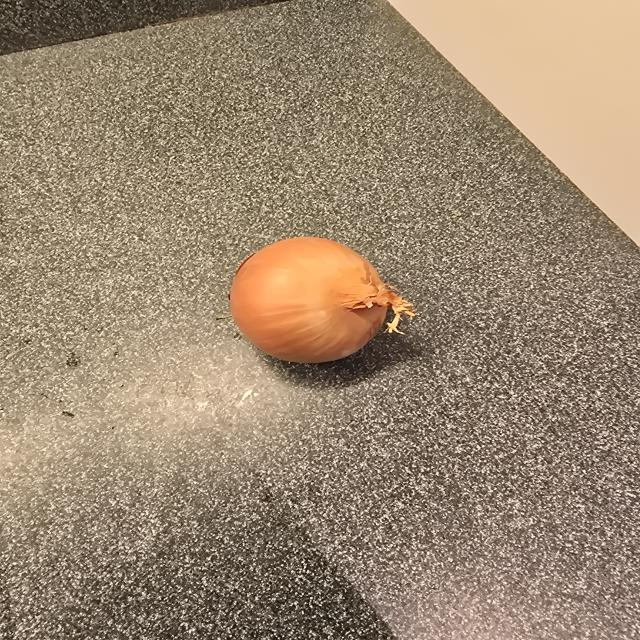Onion: (229, 237, 414, 363)
